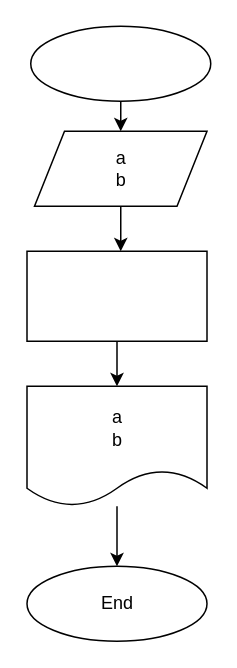
Some shapes in this 237 by 668 pixel diagram are drawn without their labels. Here are the shapes that lost their labels. From the top down, the centre of each, then its label:
At point (120, 63): "Start".
At point (116, 295): "a=a+1 b=b-1".
